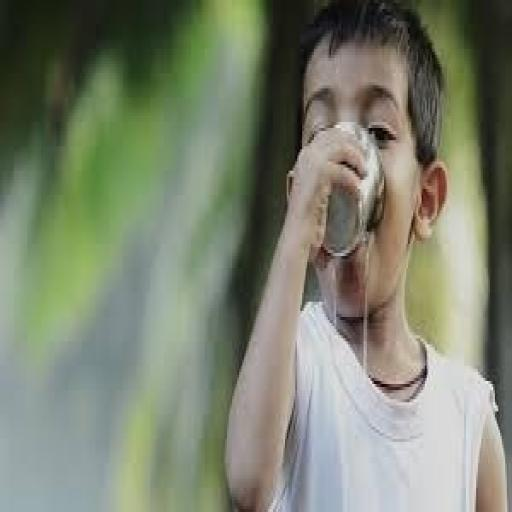drinking: (317, 54, 419, 259)
